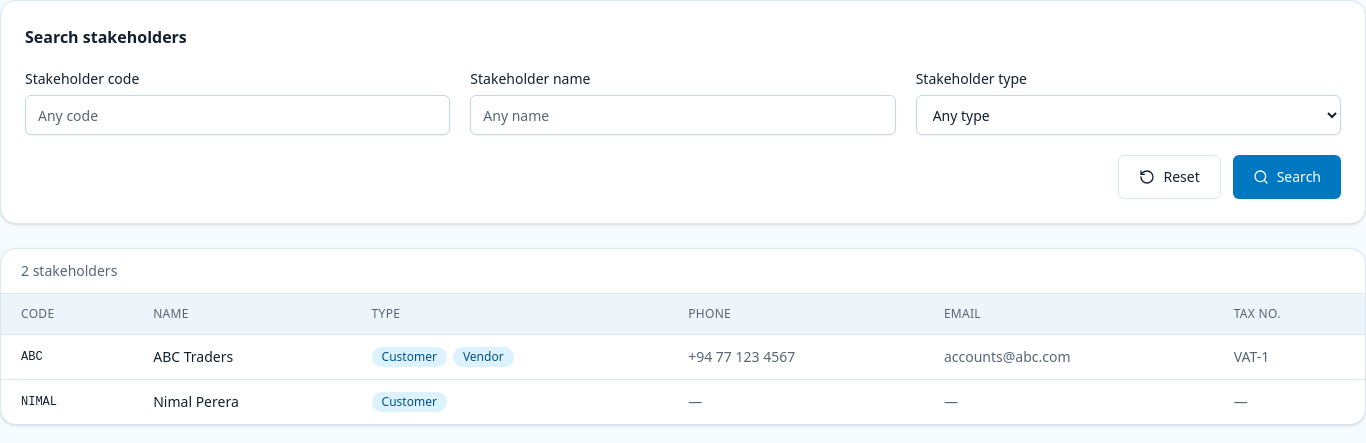
Test case: StakeholderListPage › sends the filled-in filters to the server and shows what matched
Expected: the text "2 stakeholders" is shown, x1=1 y1=249 x2=1365 y2=294
Type "ab" into the field labelled "Stakeholder code" at (238, 115), box x1=25 y1=95 x2=450 y2=135
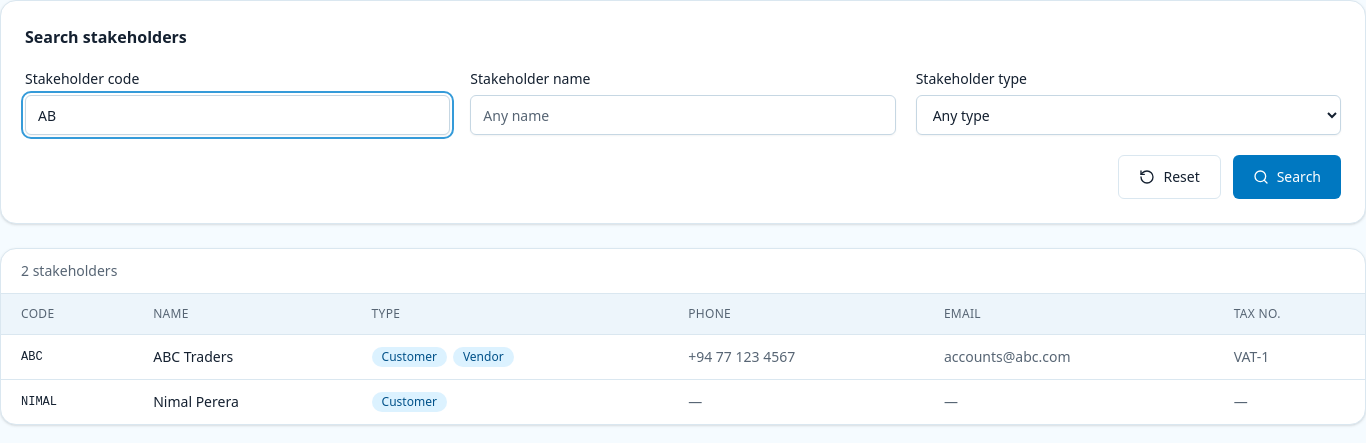
Select "Vendor" in the dropdown labelled "Stakeholder type" at (1128, 115), box x1=916 y1=95 x2=1341 y2=135
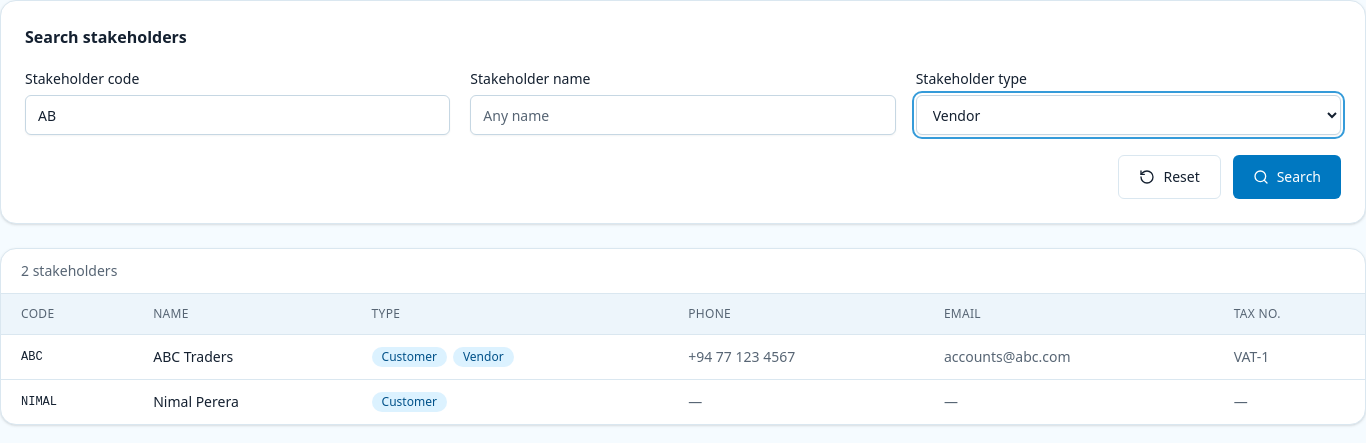
Click the button "Search" at (1287, 177), box x1=1233 y1=155 x2=1341 y2=199
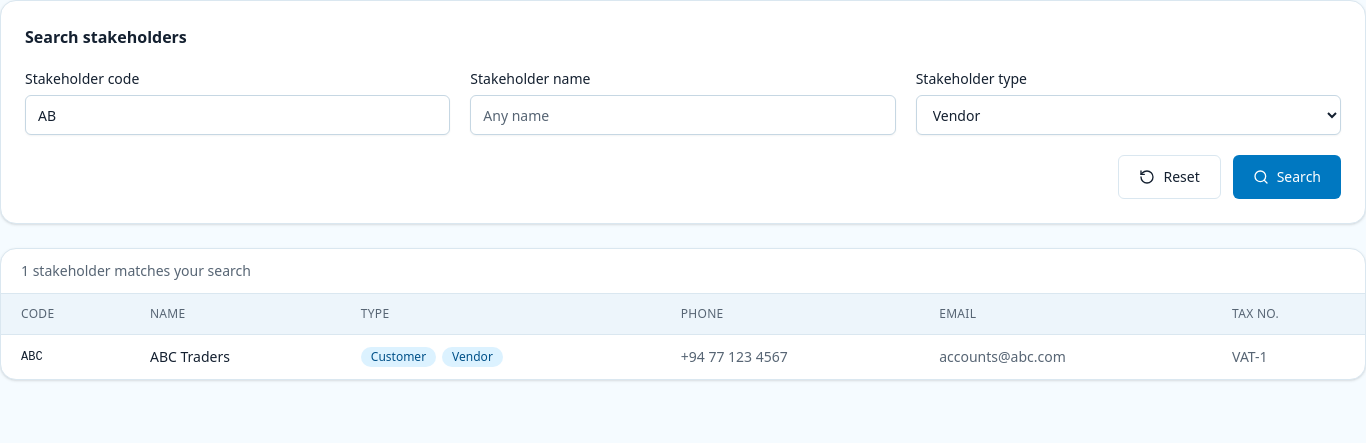
Result: the text "1 stakeholder matches your search" is shown at x1=1 y1=249 x2=1365 y2=294
